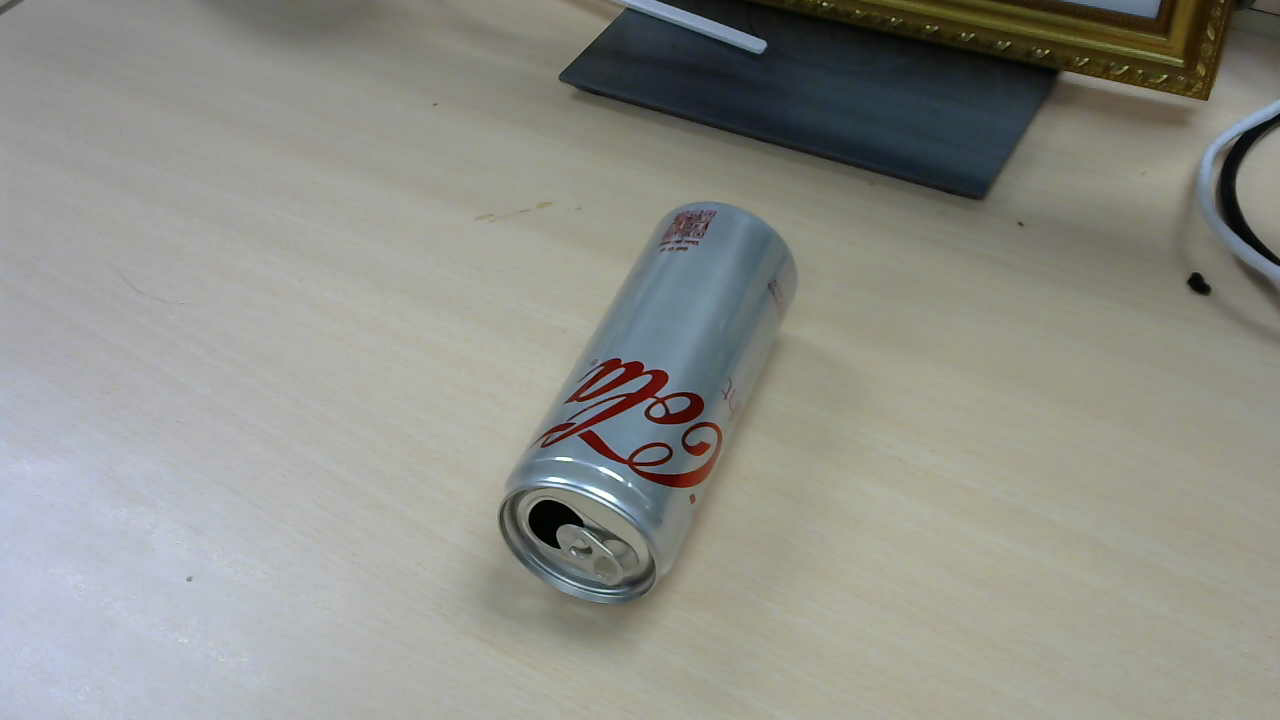Coca_Cola: (499, 205, 808, 611)
